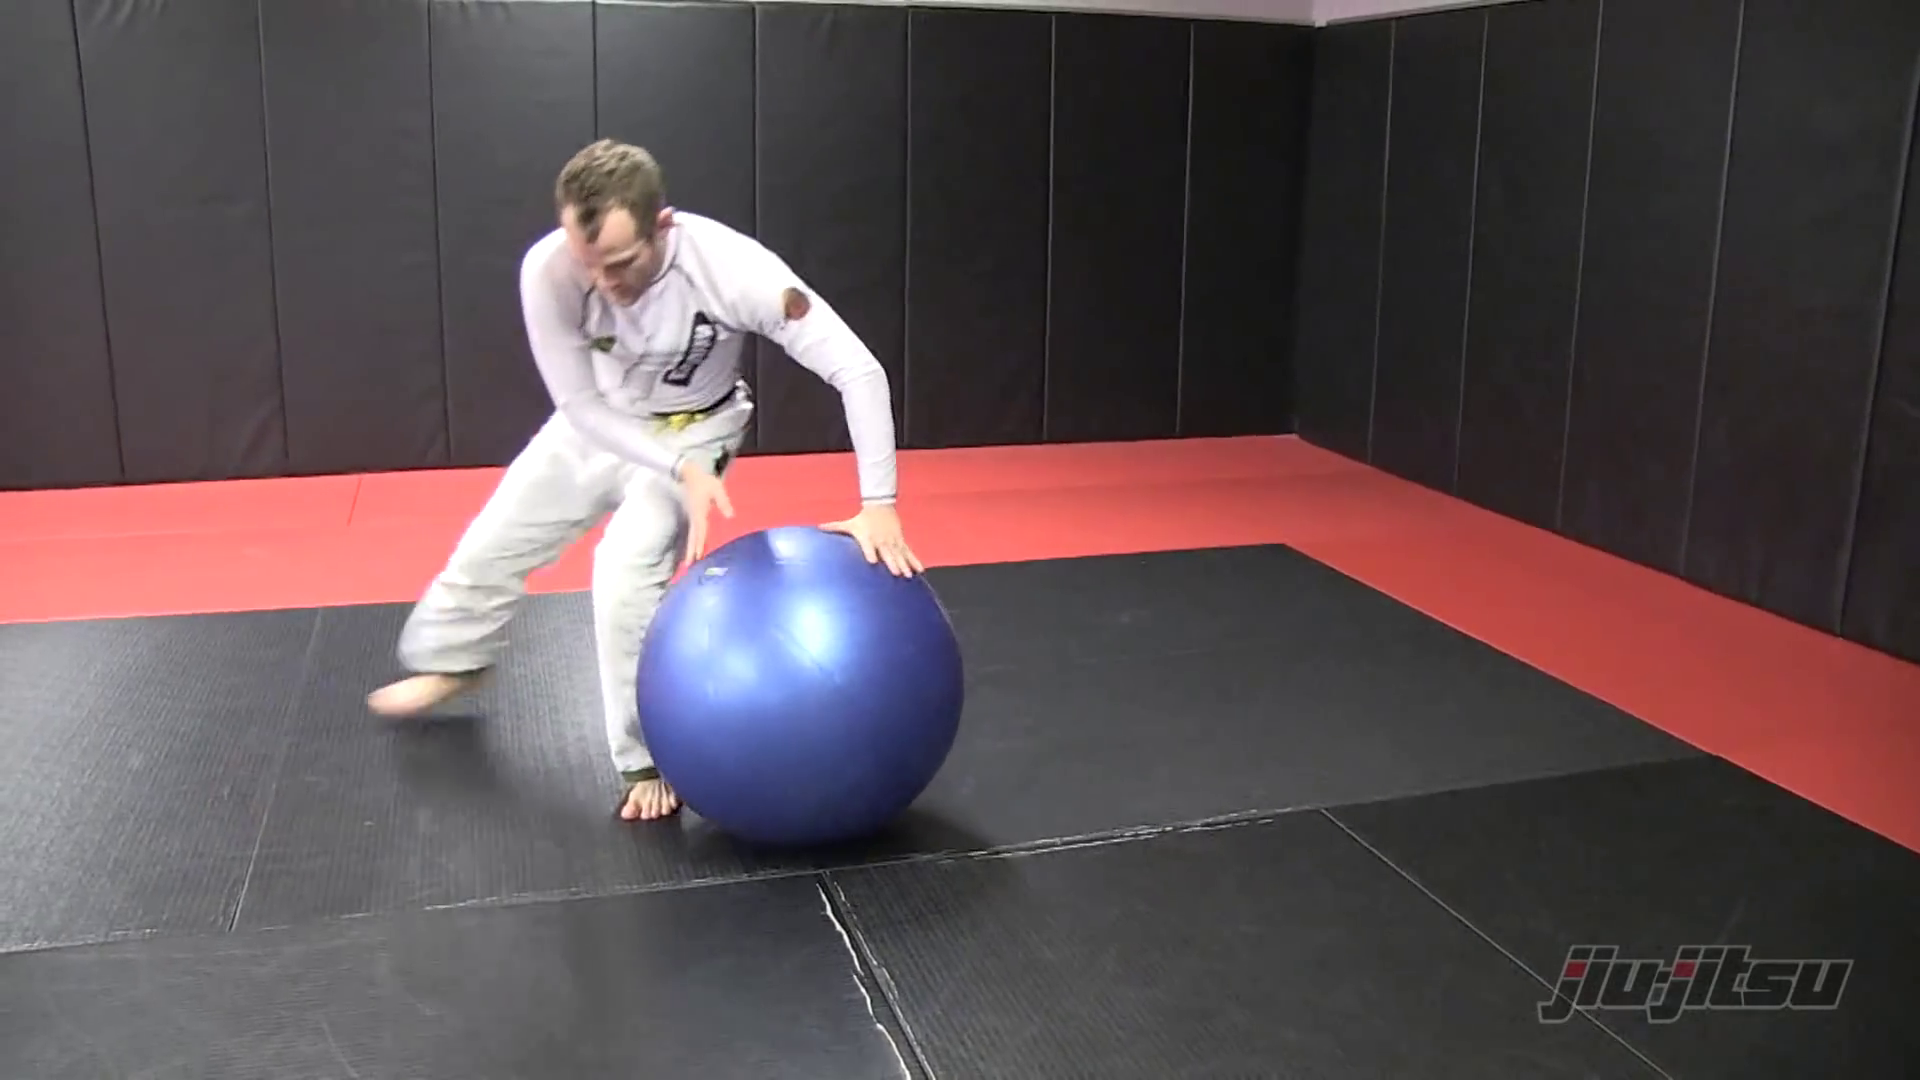yogaball: (624, 524, 996, 855)
